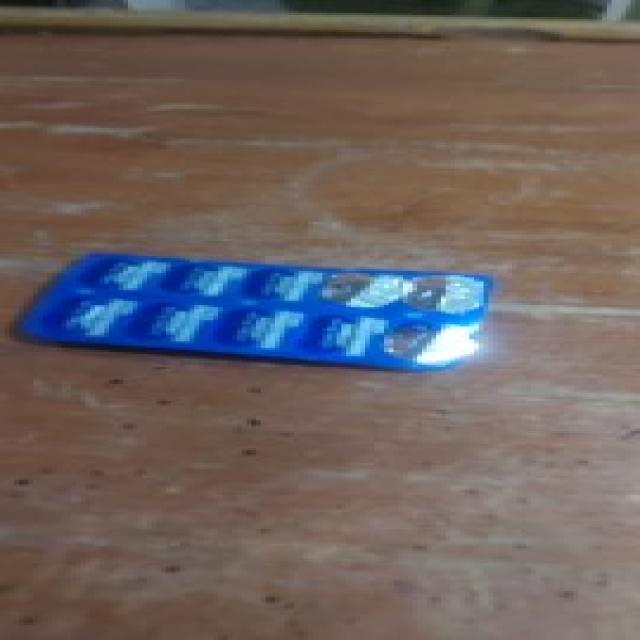Cacat: (9, 252, 500, 372)
Kemasan: (313, 271, 486, 313), (382, 315, 477, 367)
